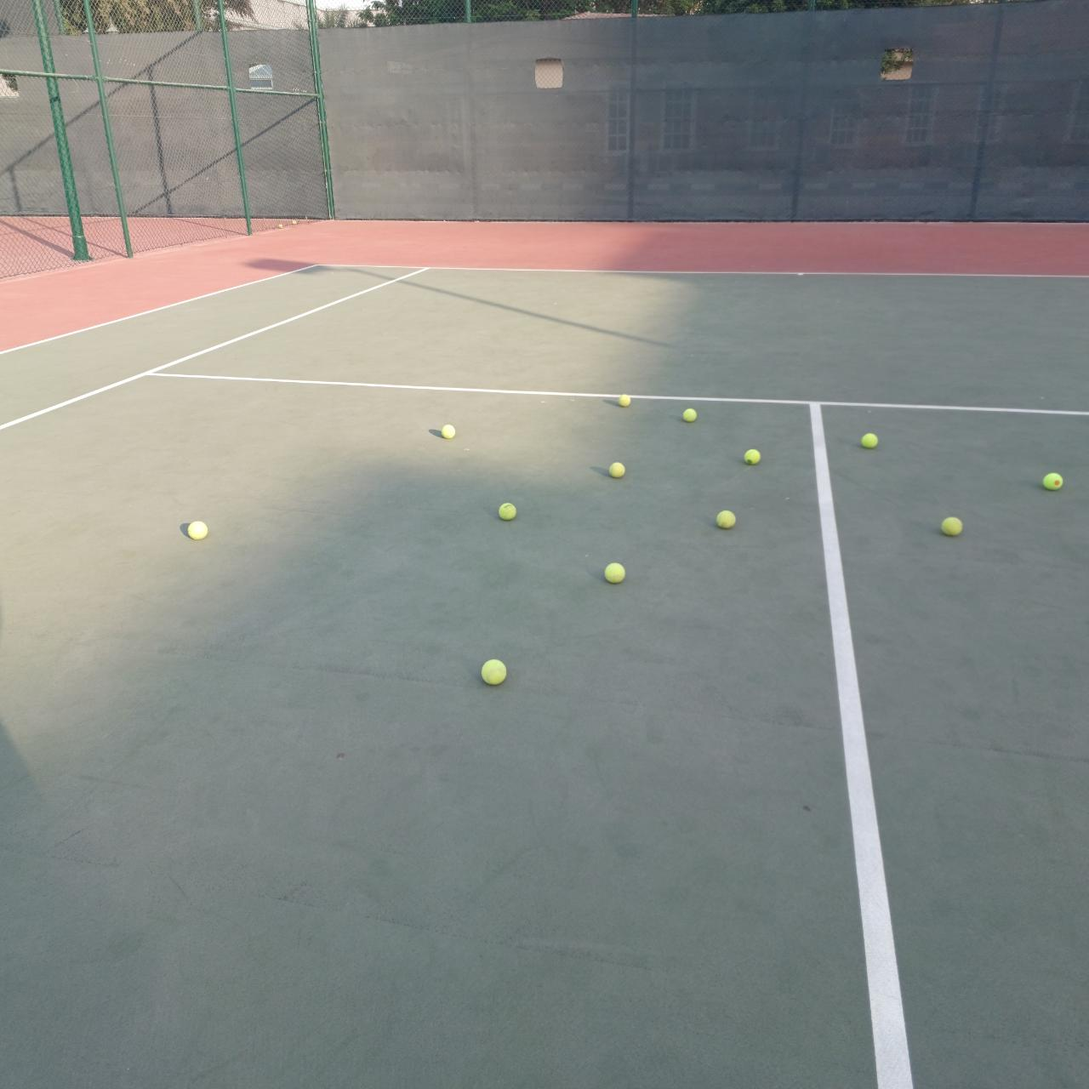tennis-ball: (479, 656, 507, 686), (939, 514, 963, 536), (603, 560, 625, 583), (185, 518, 208, 540), (1041, 470, 1063, 490), (714, 508, 736, 528), (497, 499, 516, 520), (859, 430, 878, 448), (607, 459, 625, 478), (742, 447, 760, 465), (680, 406, 697, 423), (440, 422, 456, 439), (617, 392, 630, 407)
